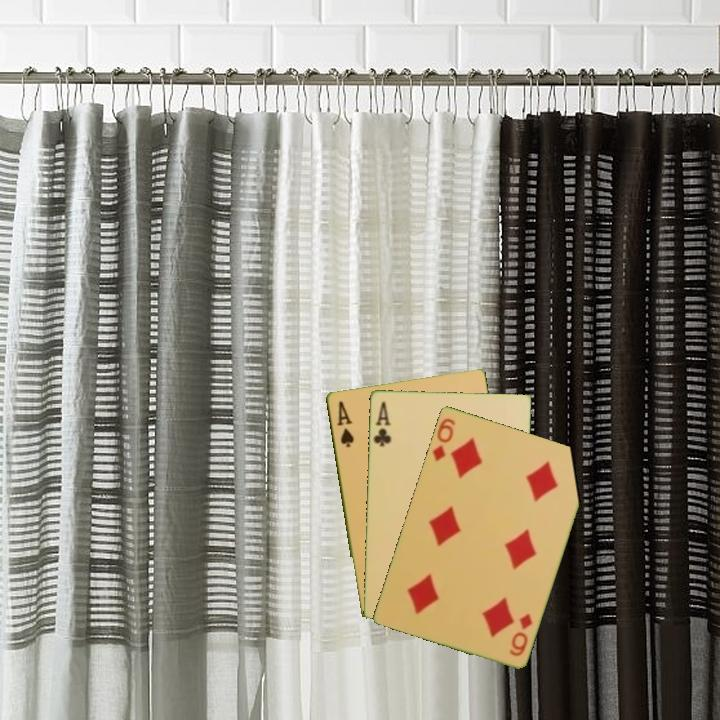6d: (428, 414, 458, 464), (506, 610, 535, 659)
Ac: (370, 398, 394, 449)
As: (333, 397, 357, 450)
